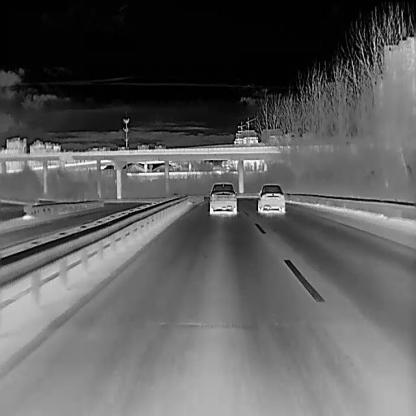car: (209, 182, 236, 214), (256, 184, 284, 212)
